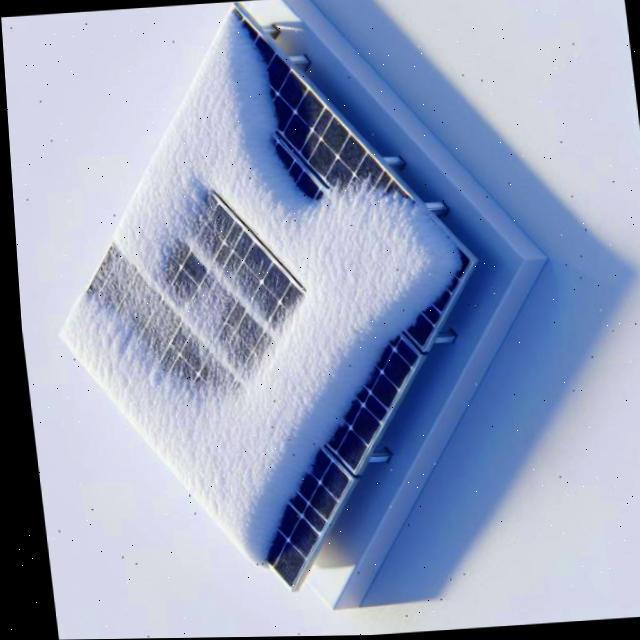Anomaly Solar Panel: (23, 12, 513, 589)
Snow: (17, 13, 502, 565)
